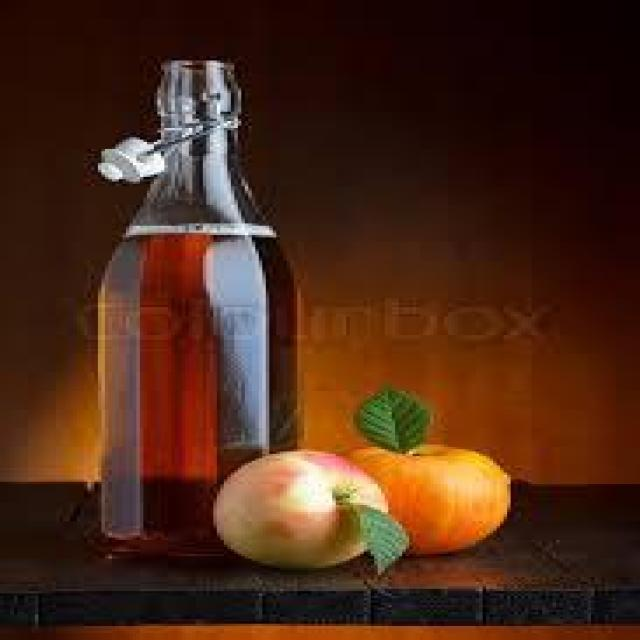maca: (210, 447, 399, 570)
